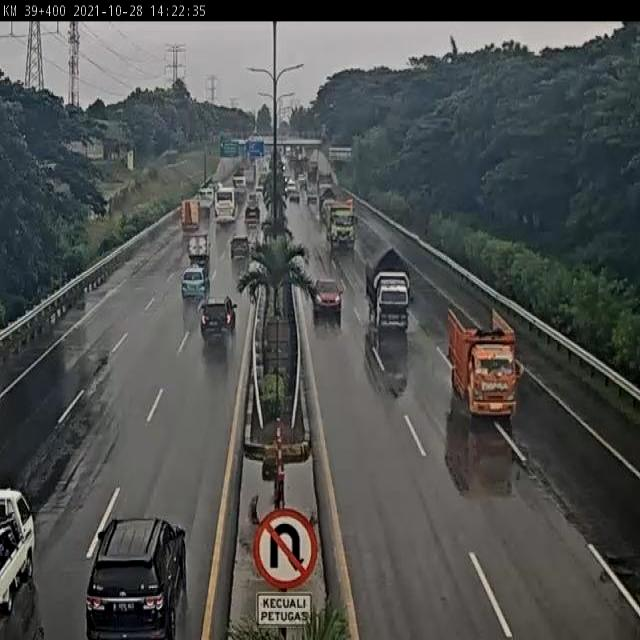Bus: (214, 185, 236, 225)
Car: (199, 296, 237, 347), (310, 278, 344, 327), (181, 265, 208, 300), (230, 234, 250, 265), (307, 190, 319, 209), (256, 180, 265, 197), (214, 182, 223, 198)
Truck: (84, 516, 185, 637), (447, 306, 521, 421), (365, 246, 411, 332), (324, 199, 357, 254), (186, 232, 211, 270), (180, 199, 201, 235), (244, 196, 261, 228), (197, 184, 215, 206), (232, 175, 248, 199)
